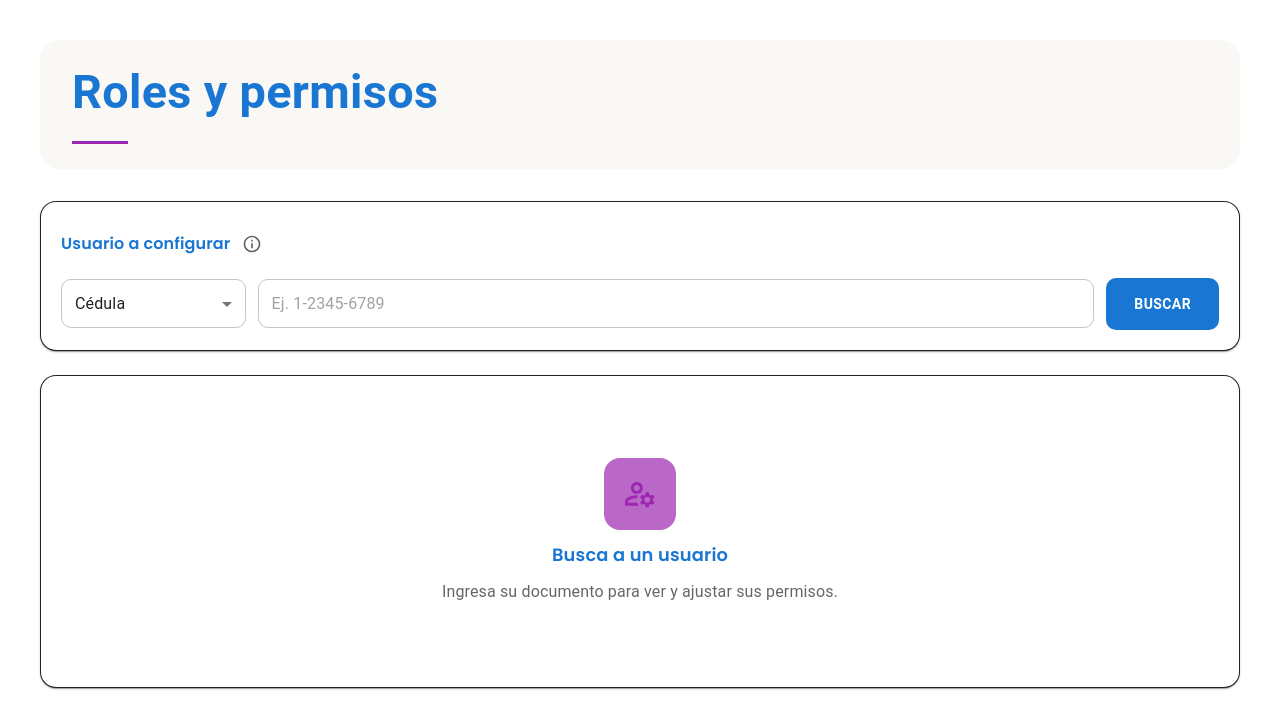
Test: RoleAccessManagement (HU-009 permisos por usuario) › un rol no editable (Super Usuario) muestra los permisos fijos y bloquea las acciones
The image size is (1280, 720).
Step 1. Type "123456789" into the field named "Número de documento" → [676, 304], box [258,280,1094,328]
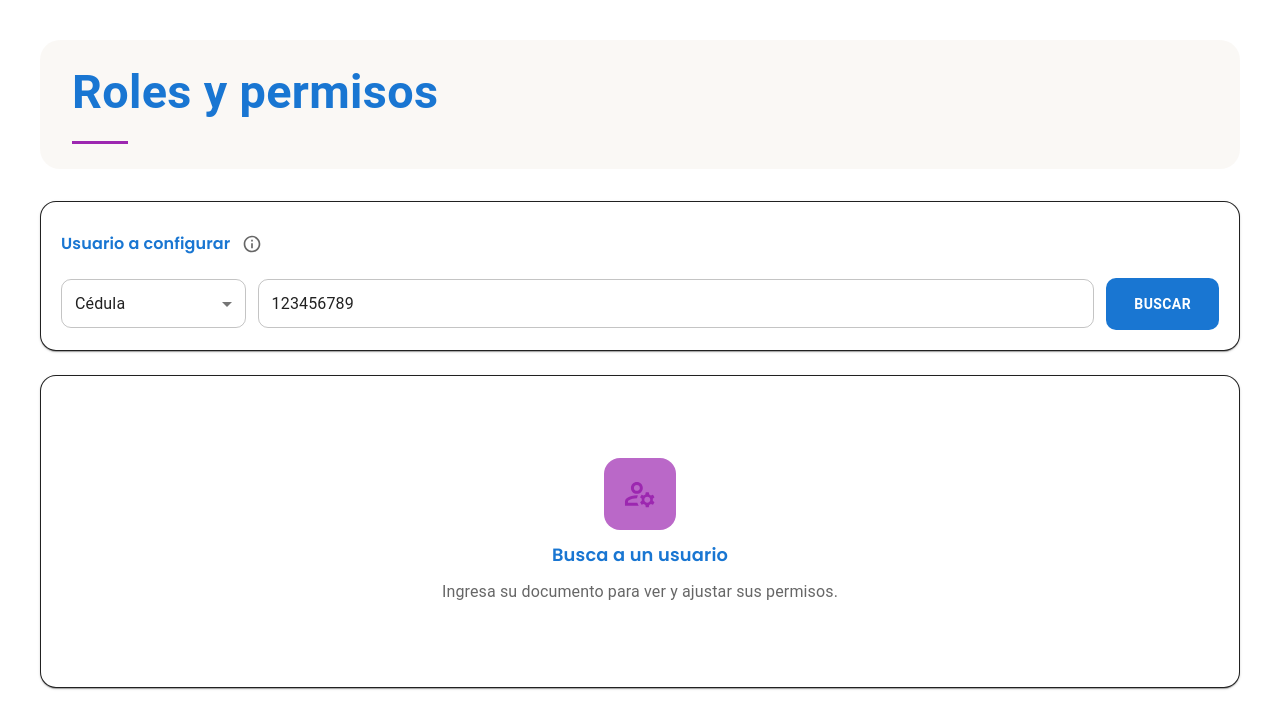
Step 2. Click the button "Buscar" → [1163, 304], box [1106,278,1219,330]
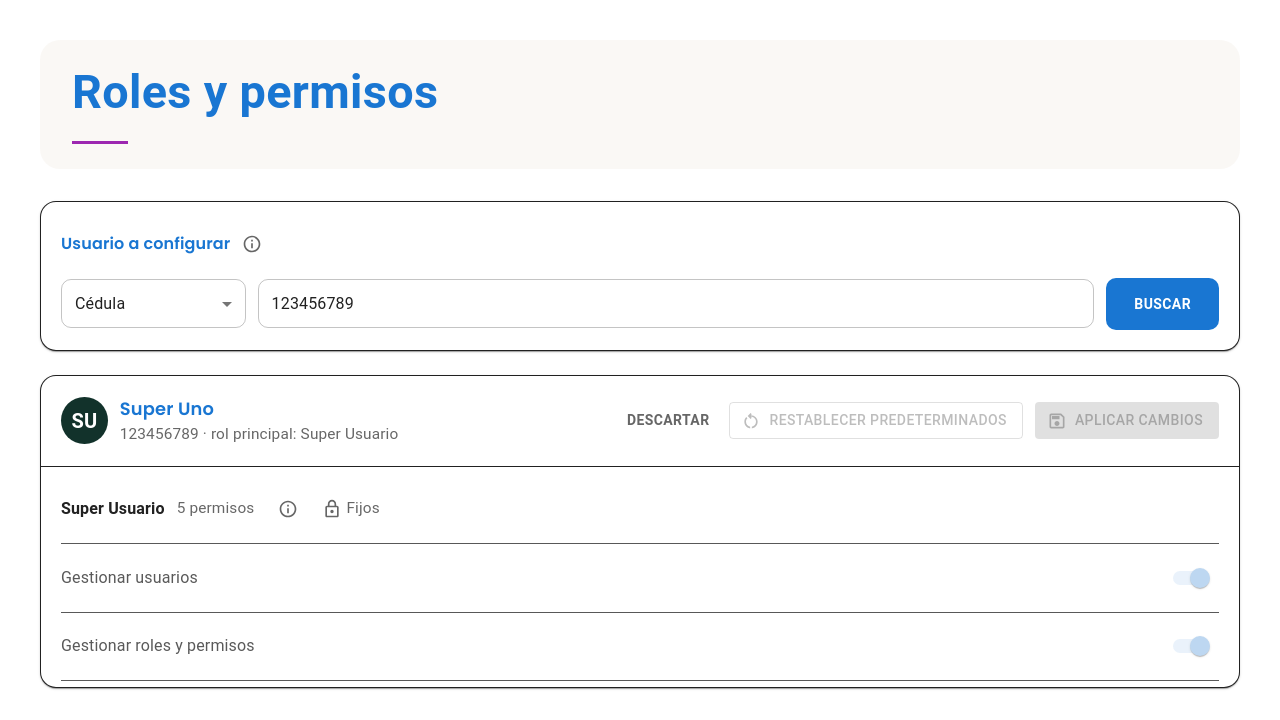
Expected: the heading "Super Uno" is shown, [120,396,214,421]
Expected: the switch named "Gestionar usuarios: permitido, no editable" is disabled, [1190,568,1210,588]
Expected: the switch named "Gestionar roles y permisos: permitido, no editable" is disabled, [1190,636,1210,656]
